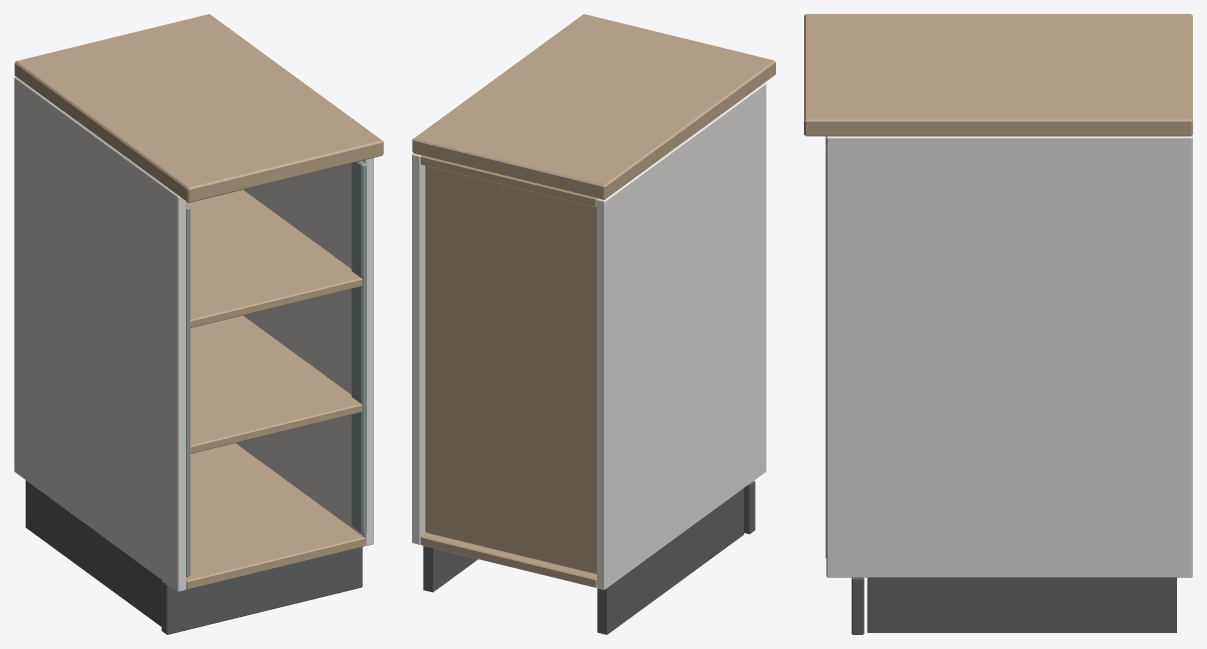
Rendered from fitted-kitchen-and-bathroom-builder-base-400-open-shel-c8393ac4__17817.glb.
3 views of the same model, side by side, from view 1: azimuth 30°, elevation 25°; view 2: azimuth 150°, elevation 25°; view 3: azimuth 270°, elevation 25° (orthographic). The views are drawn at different scales.
Parts seen in each view (by area): view 1: base-400-open-shelf; view 2: base-400-open-shelf; view 3: base-400-open-shelf.
Part boxes in pixels (x1,y1,x2,y2): base-400-open-shelf: (14,14,383,634); base-400-open-shelf: (412,14,775,634); base-400-open-shelf: (804,14,1192,634).
Bounding box in the file's own units: 0.4001 × 0.9 × 0.615.
